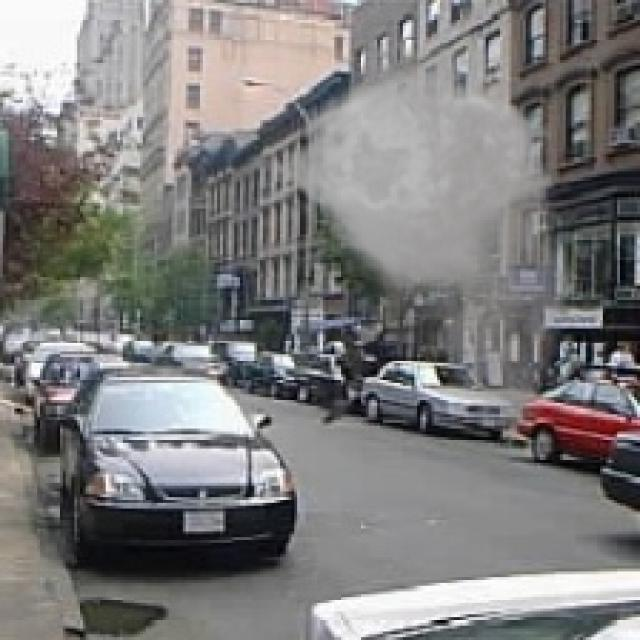smoke: (246, 20, 588, 440)
